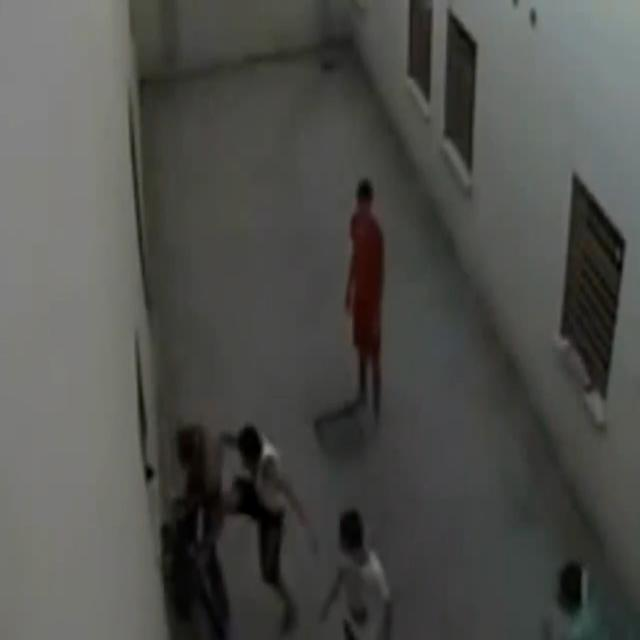fight: (143, 348, 322, 634)
